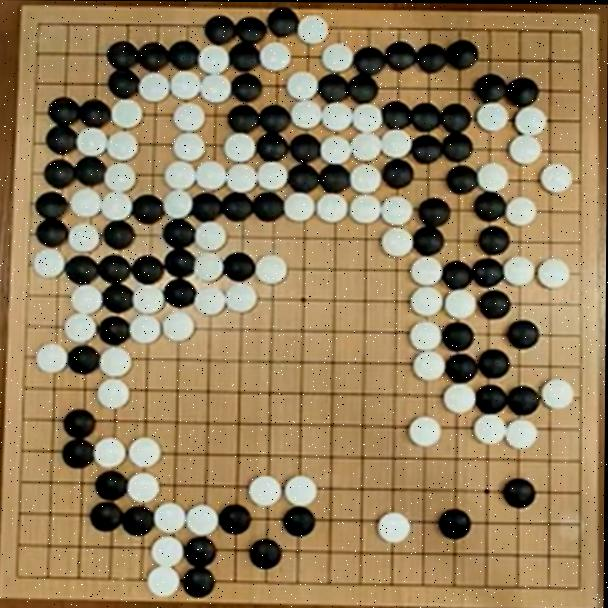corners: (21, 1, 67, 51), (558, 557, 601, 608), (555, 15, 597, 59), (5, 548, 42, 592)
